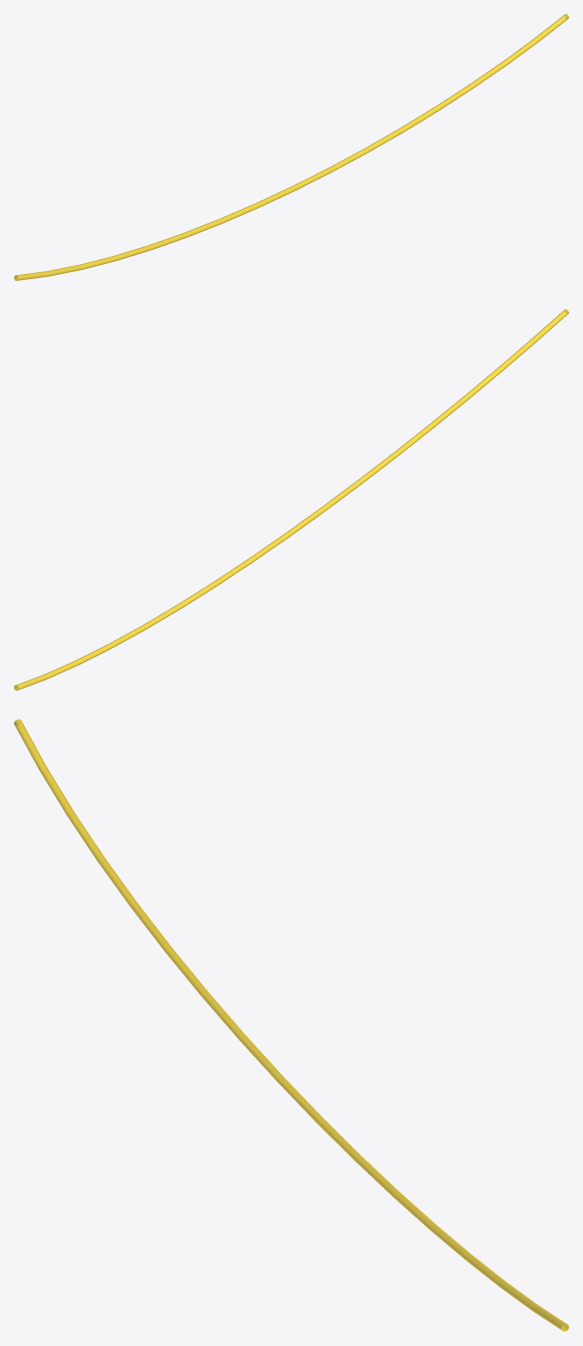
Rendered from Event_75125125_track_24.fbx.
3 views of the same model, one above another, from view 1: azimuth 30°, elevation 25°; view 2: azimuth 210°, elevation 25°; view 3: azimuth 270°, elevation 25° (orthographic). The views are drawn at different scales.
Visible parts, largest first — view 1: Model; view 2: Model; view 3: Model.
Boxes of the visible parts, left/top/right/bottom form: Model: left=14, top=14, right=568, bottom=280; Model: left=14, top=309, right=568, bottom=690; Model: left=14, top=719, right=568, bottom=1331.
Size of the model in its own units: 5.93 by 0.5977 by 2.66.
